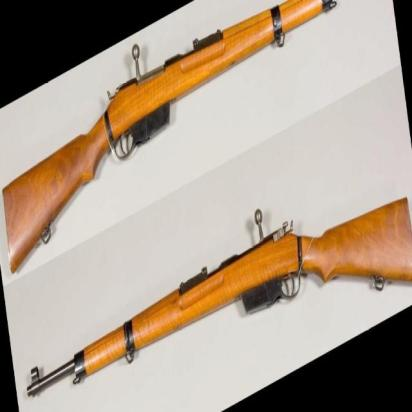Gun: (22, 127, 412, 411), (0, 0, 389, 273)
